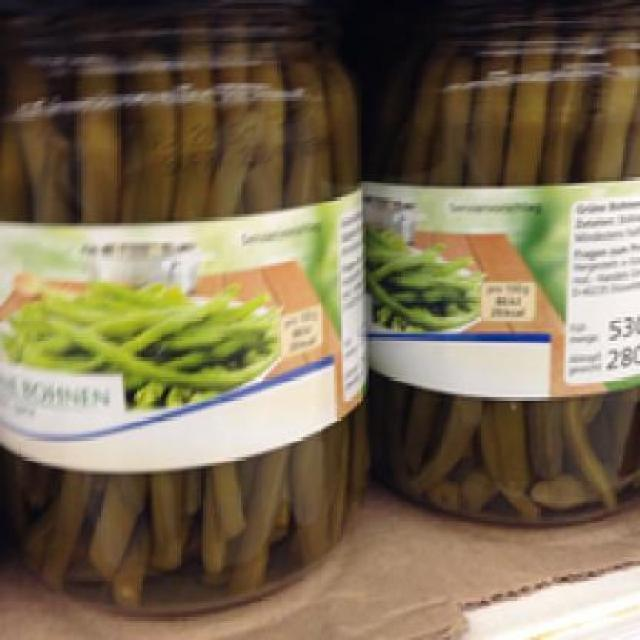Beans: (0, 4, 355, 612), (366, 6, 631, 540)
